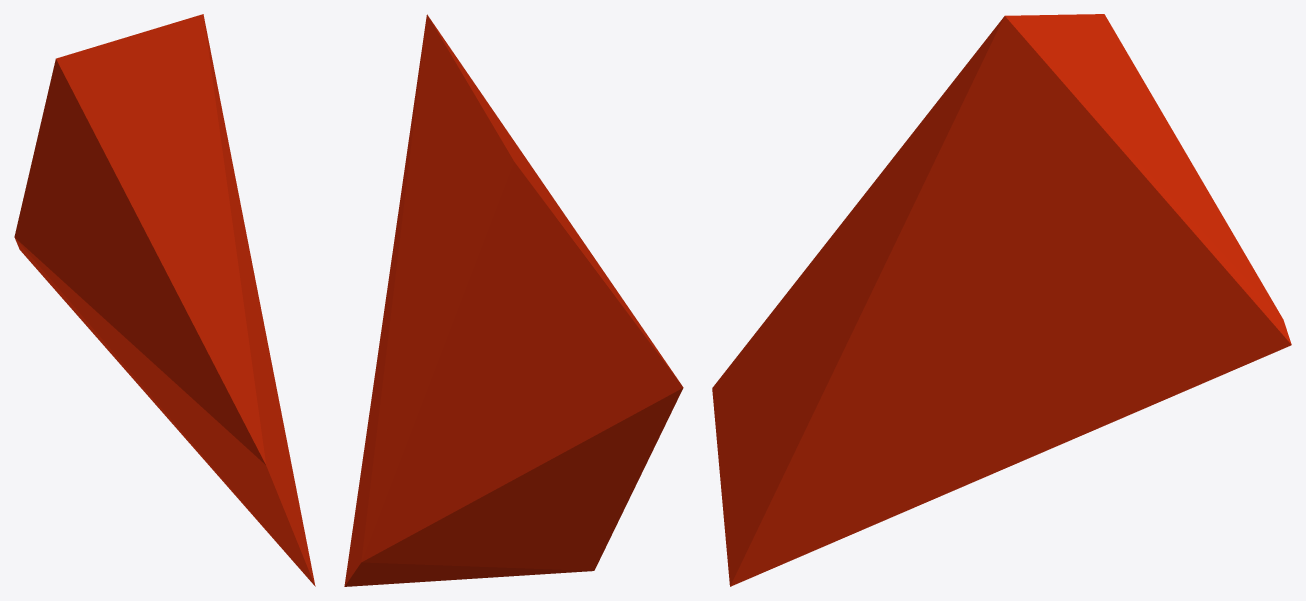
File: arm-L1_convex_piece_044.obj
The picture shows the model from 3 angles, left to right: view 1: azimuth 30°, elevation 25°; view 2: azimuth 150°, elevation 25°; view 3: azimuth 270°, elevation 25°; orthographic projection. The views are drawn at different scales.
Bounding box in the file's own units: 0.00363 × 0.016 × 0.0147.
